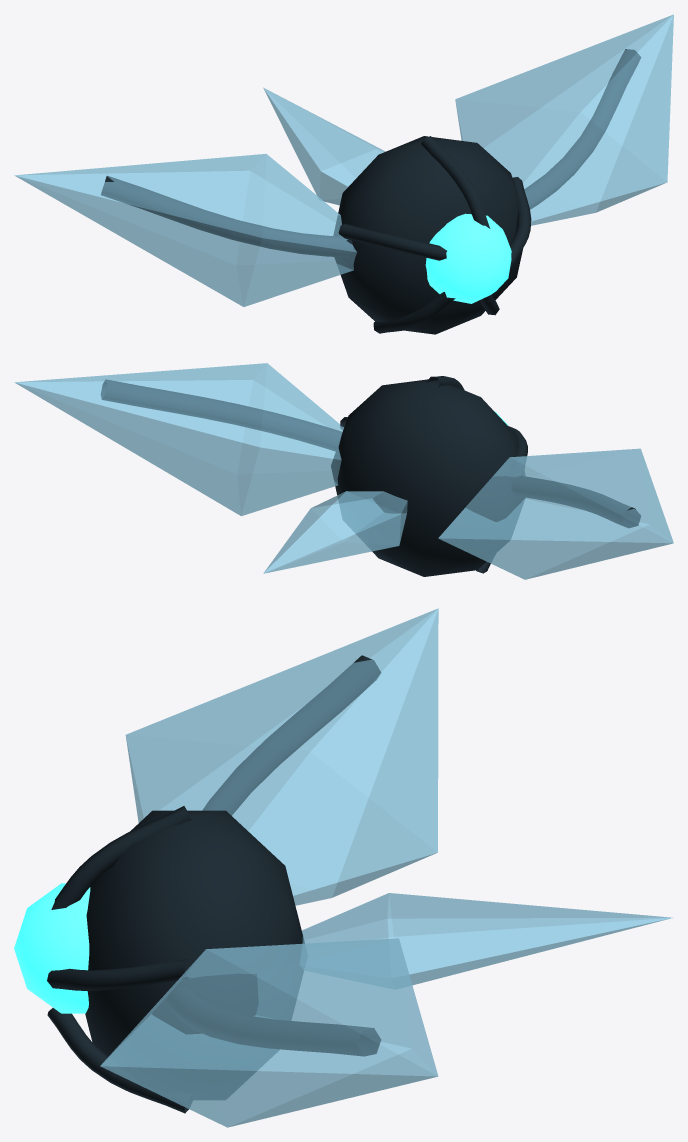
The model's file is MoveEnemy.glb.
3 renders of one model, top to bottom at view 1: azimuth 30°, elevation 25°; view 2: azimuth 150°, elevation 25°; view 3: azimuth 270°, elevation 25°, orthographic. The views are drawn at different scales.
Visible parts, largest first — view 1: MoveEnemy; view 2: MoveEnemy; view 3: MoveEnemy.
Boxes of the visible parts, x1=… form: MoveEnemy: x1=14, y1=14, x2=673, y2=334; MoveEnemy: x1=14, y1=363, x2=673, y2=579; MoveEnemy: x1=14, y1=608, x2=673, y2=1127.
Bounding box in the file's own units: 4 × 1.13 × 2.38.
